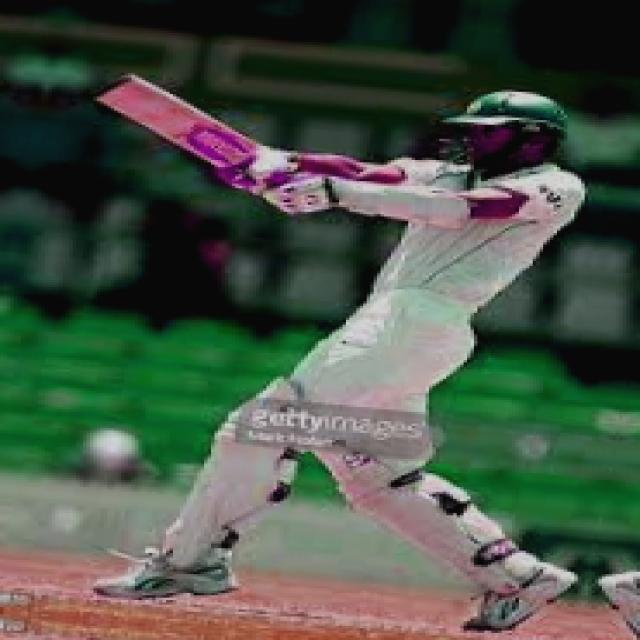toe: (88, 59, 156, 108)
